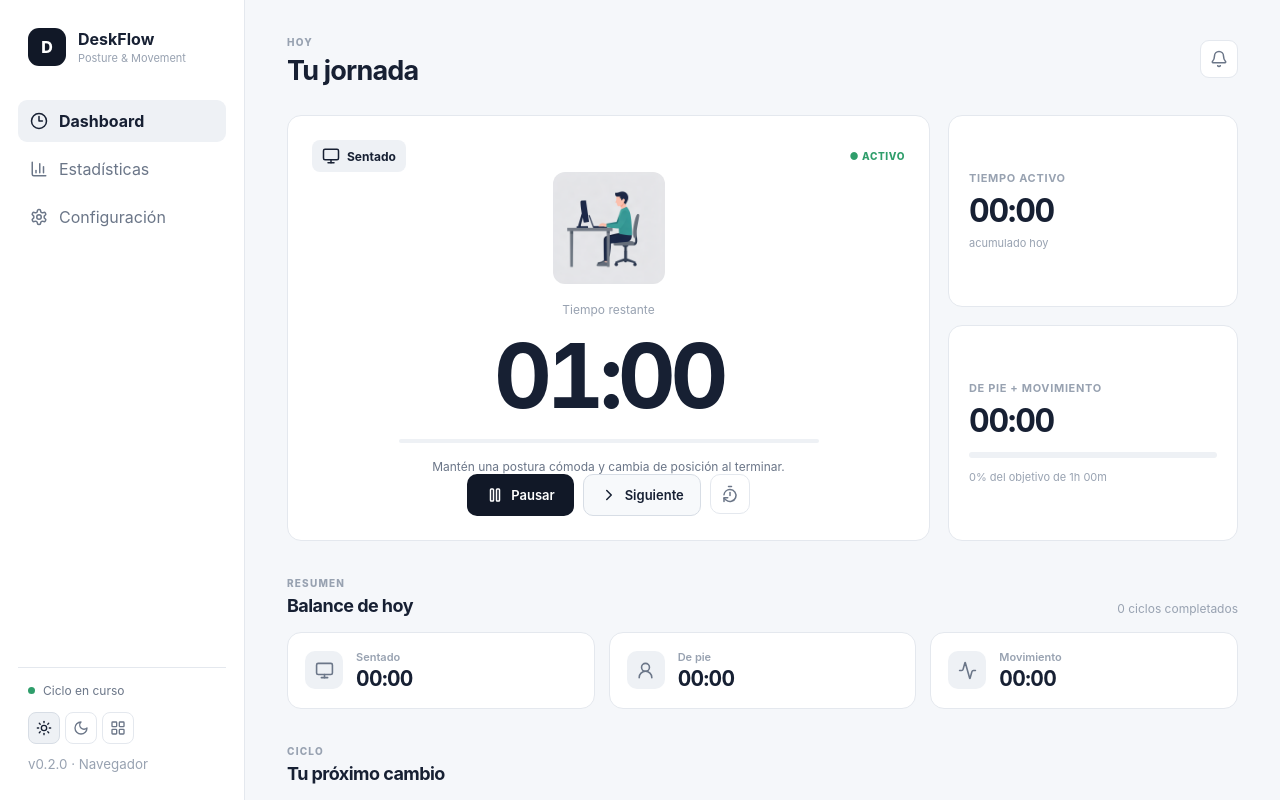
Test: change of posture prompt › opens on a posture change and pauses the cycle
Click the button "Siguiente": (642, 495) x1=583 y1=474 x2=701 y2=516
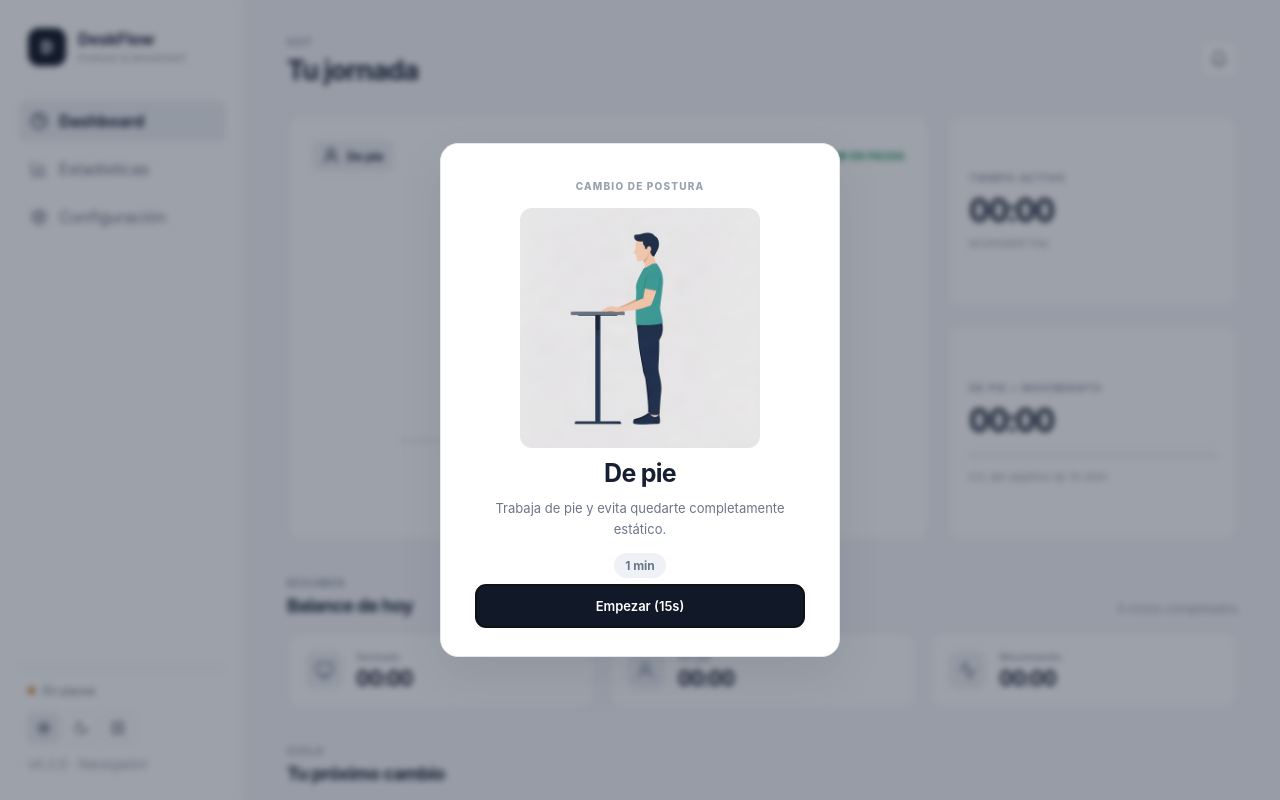
Expected: the dialog shows "CAMBIO DE POSTURA", x1=576 y1=180 x2=704 y2=192
Expected: the dialog shows "De pie", x1=604 y1=458 x2=676 y2=488
Expected: the button "Continuar" is shown, x1=458 y1=474 x2=583 y2=516
